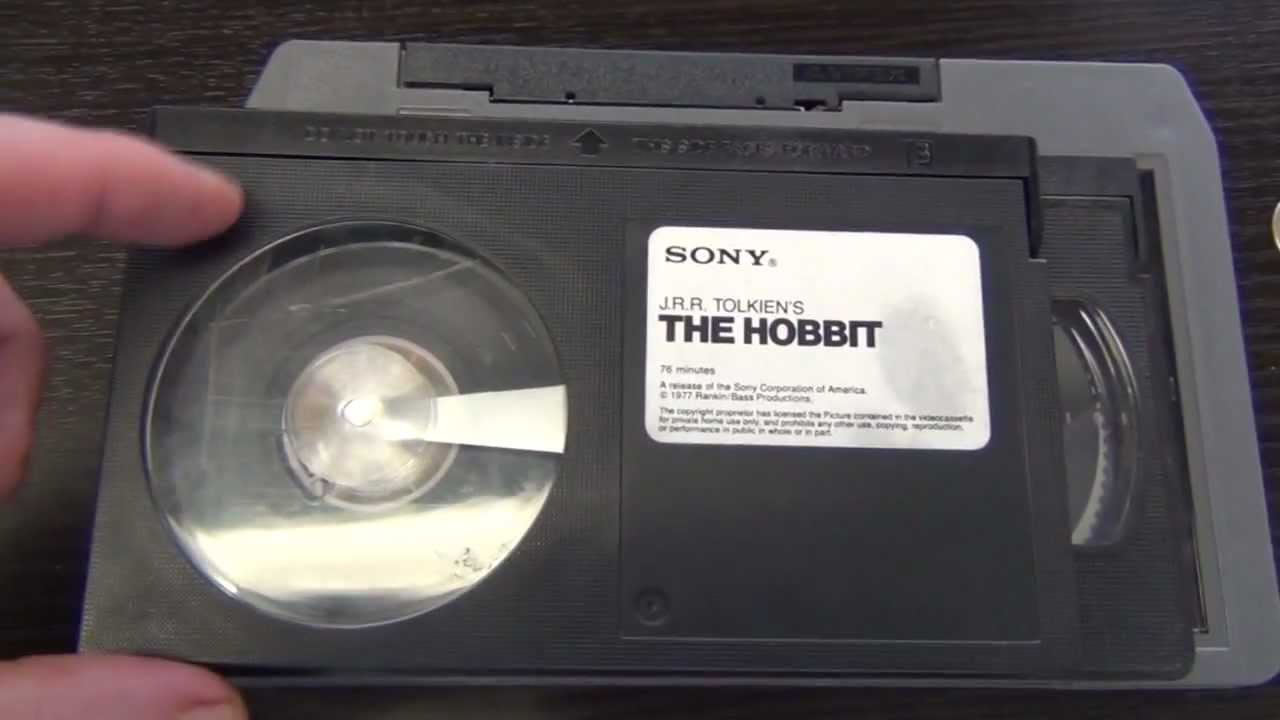Nonrec_Other: (72, 39, 1267, 691)
